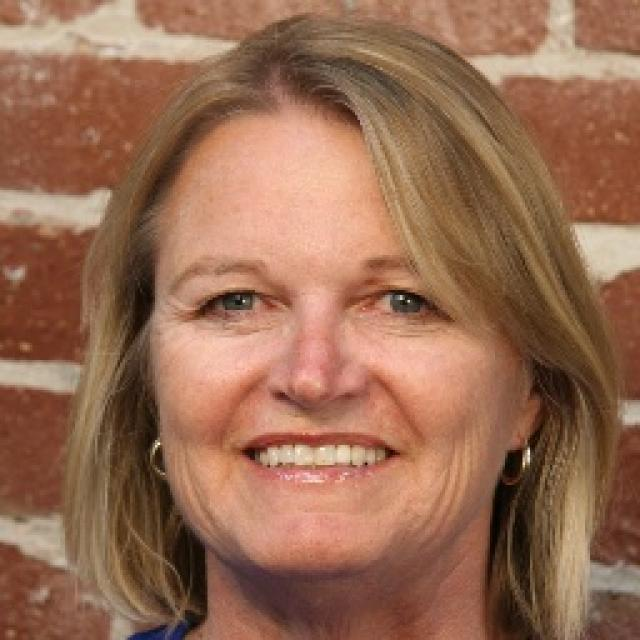earlobe: (503, 396, 539, 454)
eye: (360, 288, 440, 318), (203, 288, 278, 318)
nose: (263, 380, 362, 453)
